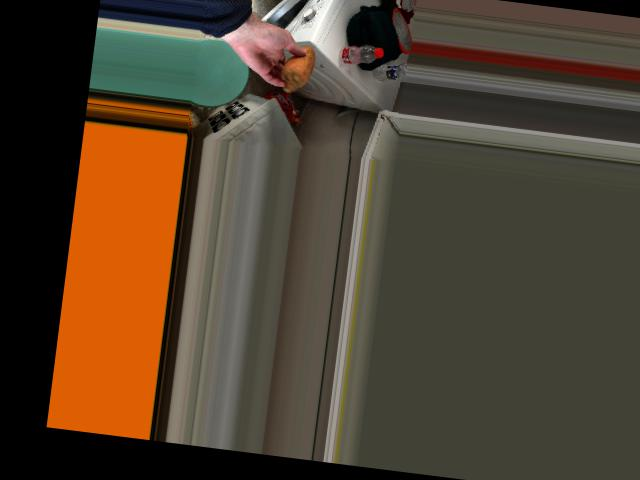sweet_potato: (274, 45, 316, 90)
